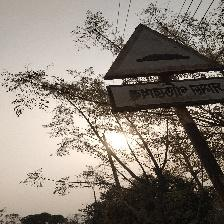Speed-breaker: (103, 23, 224, 113)
